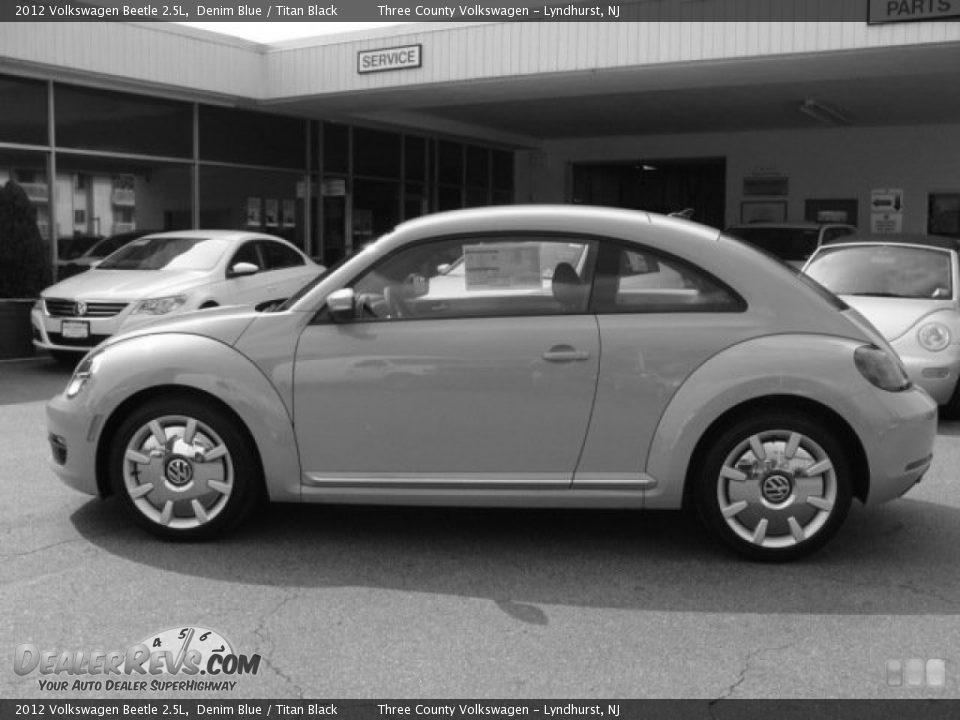car: (51, 197, 937, 563)
